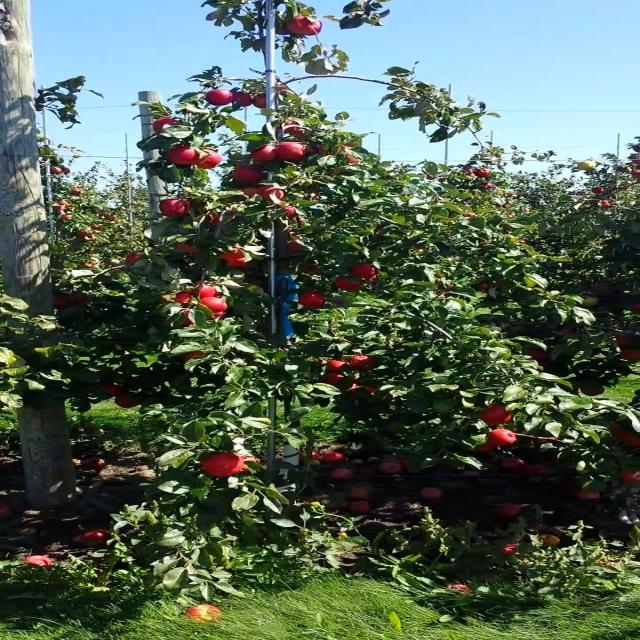apple: (205, 456, 244, 478), (220, 248, 251, 268), (276, 144, 306, 161), (333, 276, 364, 292), (170, 148, 199, 165), (163, 200, 192, 217), (298, 292, 327, 308), (483, 408, 512, 424), (234, 168, 263, 184), (348, 384, 377, 399), (490, 432, 519, 446), (205, 92, 231, 107), (205, 212, 235, 225), (198, 152, 222, 168), (291, 16, 311, 35), (348, 356, 375, 370), (255, 148, 277, 164), (355, 264, 377, 280), (618, 432, 639, 448), (262, 188, 286, 201), (170, 292, 194, 305), (156, 120, 181, 132), (198, 284, 220, 297), (205, 300, 228, 312), (234, 92, 251, 108), (326, 360, 348, 372), (305, 24, 325, 36), (326, 376, 347, 387), (177, 292, 194, 305), (284, 124, 304, 135), (177, 244, 201, 253), (284, 120, 299, 134), (207, 312, 228, 322), (106, 384, 123, 396), (525, 352, 548, 360), (255, 96, 270, 108), (120, 396, 135, 408), (241, 188, 261, 197), (582, 296, 597, 308), (582, 388, 604, 396), (476, 444, 498, 452), (184, 352, 206, 360), (618, 336, 635, 346), (625, 472, 639, 484), (276, 84, 292, 94), (312, 144, 327, 154), (56, 296, 69, 307), (611, 424, 624, 435), (127, 256, 144, 264), (291, 244, 306, 253), (326, 168, 341, 177), (625, 352, 639, 361), (596, 288, 617, 294), (284, 208, 299, 216), (305, 268, 320, 276), (77, 296, 91, 304), (348, 156, 361, 164), (632, 304, 639, 313)
